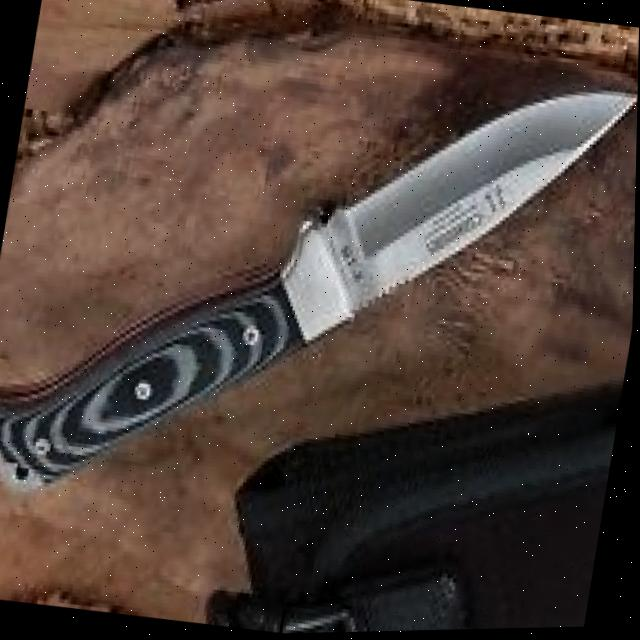knife: (0, 1, 640, 577)
